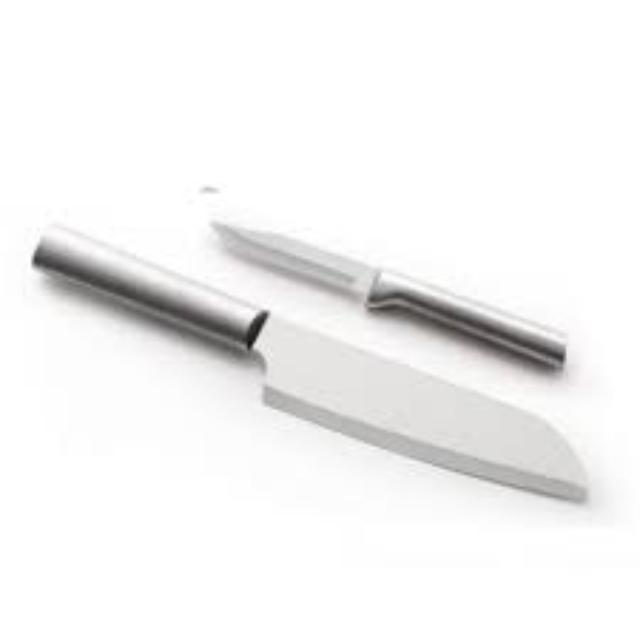knife: (29, 219, 589, 503), (194, 182, 568, 370)
